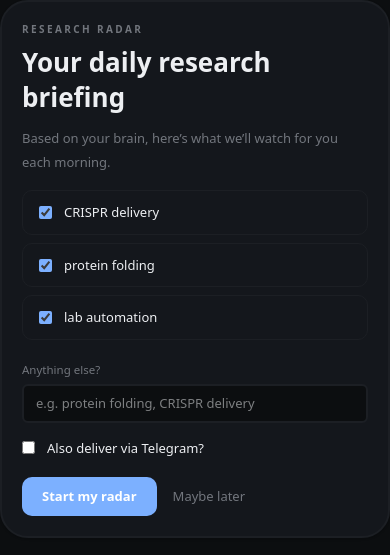
Test: RadarOnboardingCard › sends telegram: true when the toggle is enabled before activation
Expected: the checkbox labelled "CRISPR delivery" is shown, top-left (39, 206), bottom-right (52, 219)
Click the checkbox labelled "Also deliver via Telegram?".
click(28, 448)  # box top-left (22, 441), bottom-right (35, 454)
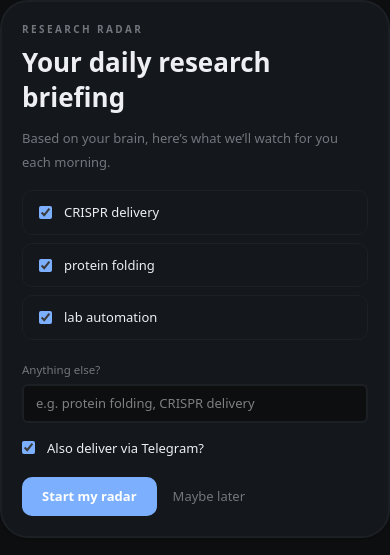
Click the button "Start my radar".
click(89, 496)  # box top-left (22, 477), bottom-right (157, 516)
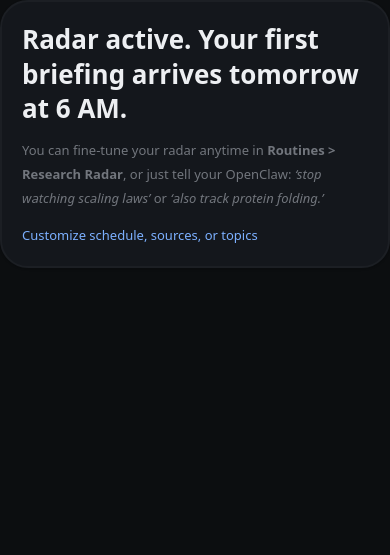
Now the heading "Radar active. Your first briefing arrives tomorrow at 6 AM." is shown, box top-left (22, 22), bottom-right (368, 126)
